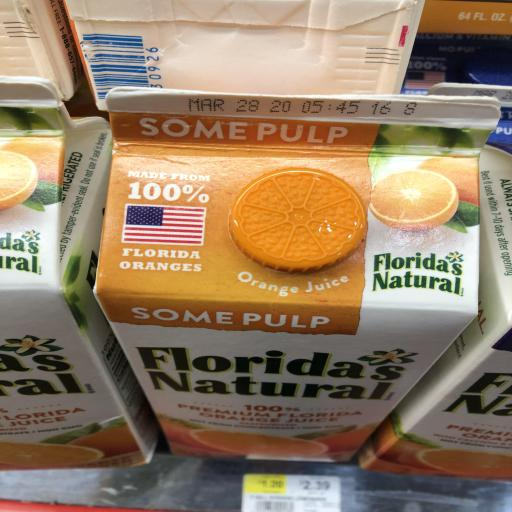drink carton: (90, 84, 502, 469), (0, 75, 165, 472), (357, 80, 512, 475)
plastic bottle cap: (227, 166, 368, 278)
